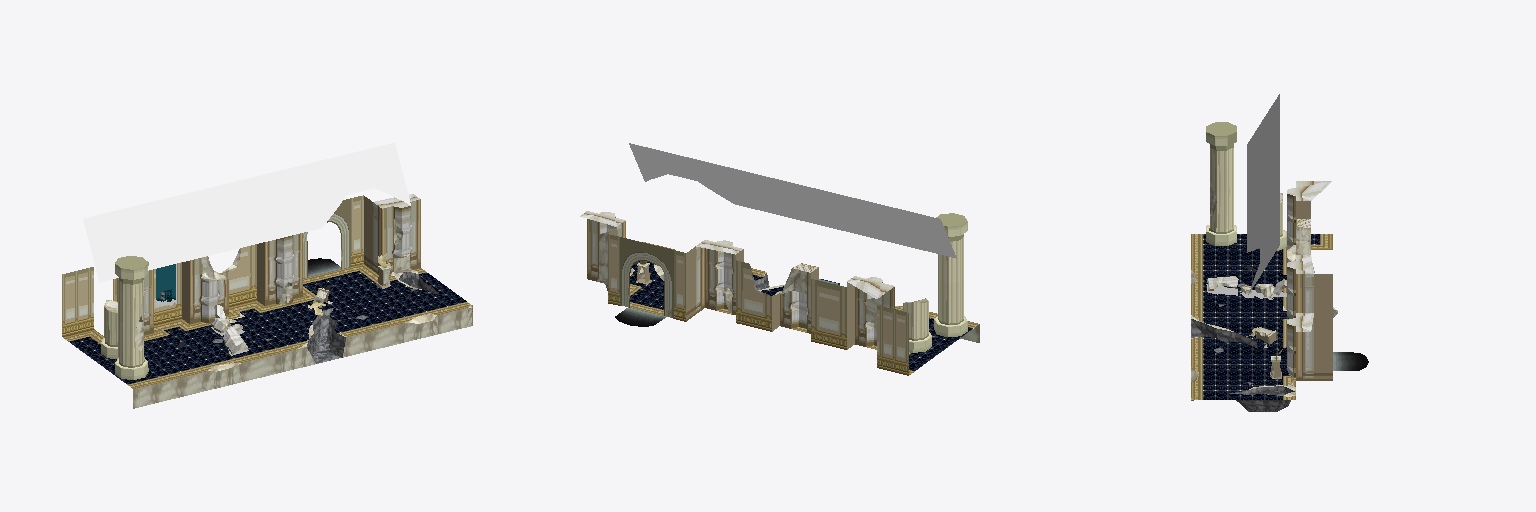
The picture shows the model from 3 angles: view 1: azimuth 30°, elevation 25°; view 2: azimuth 150°, elevation 25°; view 3: azimuth 270°, elevation 25°; orthographic projection.
Visible parts, largest first — view 1: in39_ray03_lay0_QUADS_VisGroup0, n_yuka1_lay0_QUADS_VisGroup0, n_kabe3_lay0_QUADS_VisGroup0, in39_yuka3_lay0_QUADS_VisGroup0, n_kabe_lay0_QUADS_VisGroup0, n_fuch3_lay0_QUADS_VisGroup0, n_colum_a_lay0_QUADS_VisGroup0, n_yuka1_lay0_TRIS_VisGroup0, in39_yuka3_lay0_TRIS_VisGroup0, n_kabe3_lay0_TRIS_VisGroup0, in39_gare01_lay0_QUADS_VisGroup0, n_colum_a_lay0_TRIS_VisGroup0 (+2 smaller); view 2: in39_ray03_lay0_QUADS_VisGroup0, n_kabe3_lay0_QUADS_VisGroup0, n_kabe_lay0_QUADS_VisGroup0, n_colum_a_lay0_QUADS_VisGroup0, n_yuka1_lay0_QUADS_VisGroup0, n_kabe3_lay0_TRIS_VisGroup0, n_kabe2_lay0_QUADS_VisGroup0, in39_yuka3_lay0_QUADS_VisGroup0, n_fuch3_lay0_QUADS_VisGroup0, n_mado_lay0_QUADS_VisGroup0, n_kabe2_lay0_TRIS_VisGroup0, in39_yuka3_lay0_TRIS_VisGroup0 (+1 smaller); view 3: n_yuka1_lay0_QUADS_VisGroup0, n_kabe3_lay0_QUADS_VisGroup0, in39_ray03_lay0_QUADS_VisGroup0, n_colum_a_lay0_QUADS_VisGroup0, n_yuka1_lay0_TRIS_VisGroup0, n_fuch3_lay0_QUADS_VisGroup0, in39_gare01_lay0_QUADS_VisGroup0, n_kabe3_lay0_TRIS_VisGroup0, in39_yuka3_lay0_TRIS_VisGroup0, in39_yuka3_lay0_QUADS_VisGroup0, n_mado_lay0_QUADS_VisGroup0, n_colum_a_lay0_TRIS_VisGroup0.
Boxes of the visible parts, x1,y1,x2,y2 form: in39_ray03_lay0_QUADS_VisGroup0: [83, 143, 410, 282]; n_yuka1_lay0_QUADS_VisGroup0: [70, 271, 466, 384]; n_kabe3_lay0_QUADS_VisGroup0: [113, 194, 472, 353]; in39_yuka3_lay0_QUADS_VisGroup0: [133, 220, 471, 408]; n_kabe_lay0_QUADS_VisGroup0: [62, 195, 363, 336]; n_fuch3_lay0_QUADS_VisGroup0: [63, 264, 469, 388]; n_colum_a_lay0_QUADS_VisGroup0: [101, 262, 148, 379]; n_yuka1_lay0_TRIS_VisGroup0: [262, 275, 437, 339]; in39_yuka3_lay0_TRIS_VisGroup0: [135, 219, 472, 371]; n_kabe3_lay0_TRIS_VisGroup0: [113, 194, 419, 346]; in39_gare01_lay0_QUADS_VisGroup0: [307, 272, 439, 363]; n_colum_a_lay0_TRIS_VisGroup0: [115, 256, 147, 369]; in39_ray03_lay0_QUADS_VisGroup0: [629, 143, 956, 258]; n_kabe3_lay0_QUADS_VisGroup0: [580, 212, 894, 349]; n_kabe_lay0_QUADS_VisGroup0: [608, 234, 908, 375]; n_colum_a_lay0_QUADS_VisGroup0: [903, 221, 967, 352]; n_yuka1_lay0_QUADS_VisGroup0: [630, 261, 973, 370]; n_kabe3_lay0_TRIS_VisGroup0: [581, 211, 894, 329]; n_kabe2_lay0_QUADS_VisGroup0: [620, 237, 673, 309]; in39_yuka3_lay0_QUADS_VisGroup0: [596, 231, 979, 342]; n_fuch3_lay0_QUADS_VisGroup0: [630, 242, 978, 374]; n_mado_lay0_QUADS_VisGroup0: [615, 307, 665, 326]; n_kabe2_lay0_TRIS_VisGroup0: [620, 237, 673, 318]; in39_yuka3_lay0_TRIS_VisGroup0: [597, 235, 881, 303]; n_yuka1_lay0_QUADS_VisGroup0: [1203, 234, 1319, 399]; n_kabe3_lay0_QUADS_VisGroup0: [1208, 181, 1332, 380]; in39_ray03_lay0_QUADS_VisGroup0: [1247, 94, 1279, 294]; n_colum_a_lay0_QUADS_VisGroup0: [1206, 132, 1286, 250]; n_yuka1_lay0_TRIS_VisGroup0: [1203, 319, 1282, 395]; n_fuch3_lay0_QUADS_VisGroup0: [1191, 234, 1332, 399]; in39_gare01_lay0_QUADS_VisGroup0: [1191, 319, 1294, 411]; n_kabe3_lay0_TRIS_VisGroup0: [1219, 181, 1332, 380]; in39_yuka3_lay0_TRIS_VisGroup0: [1191, 182, 1337, 400]; in39_yuka3_lay0_QUADS_VisGroup0: [1191, 227, 1337, 387]; n_mado_lay0_QUADS_VisGroup0: [1333, 352, 1368, 370]; n_colum_a_lay0_TRIS_VisGroup0: [1206, 122, 1236, 230].
Bounding box in the file's own units: 518 × 227 × 231.
Materials: 20 (19 with a texture image).